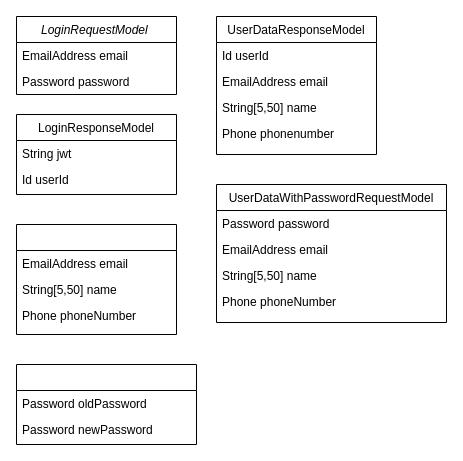
This 463x461 diagram has some shape labels left out. Here are the shapes that lost their labels. From the top down, the box of each, then its label:
(16, 224, 176, 334): UserDataRequestModel
(16, 364, 196, 444): PasswordResetRequestModel
